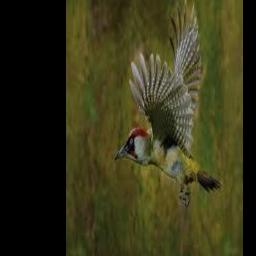Woodpecker: (114, 0, 223, 206)
